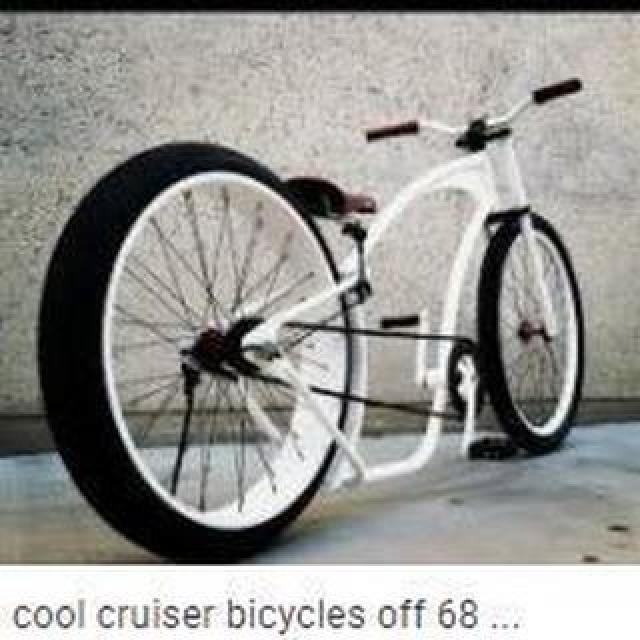Person: (31, 66, 593, 564)
